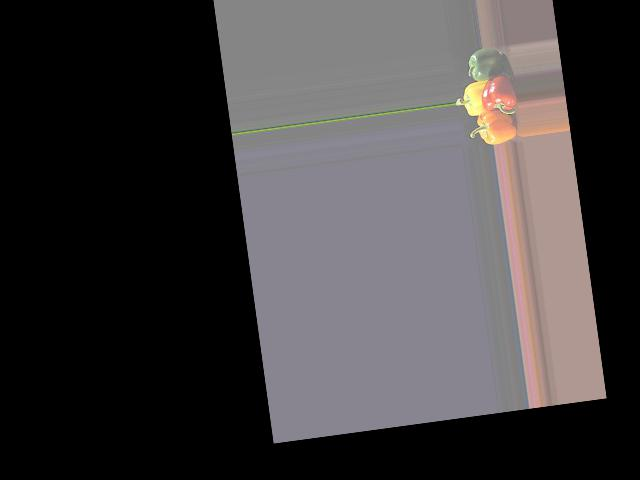bell_pepper: (471, 106, 523, 147)
